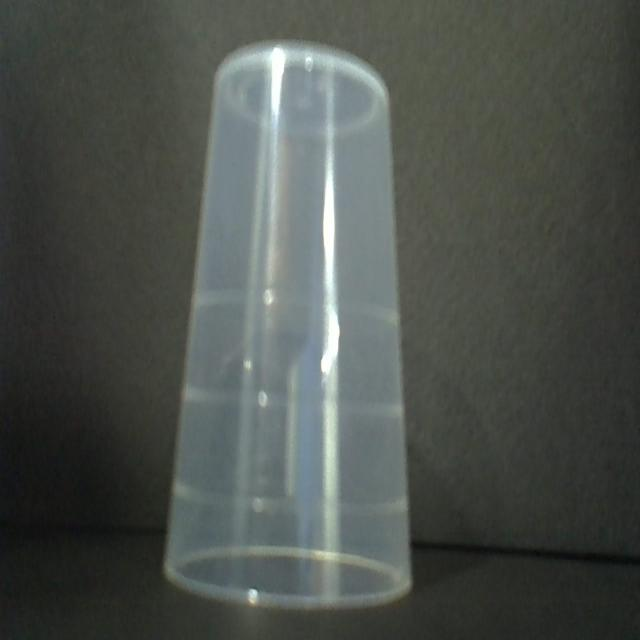cup: (162, 38, 420, 615)
